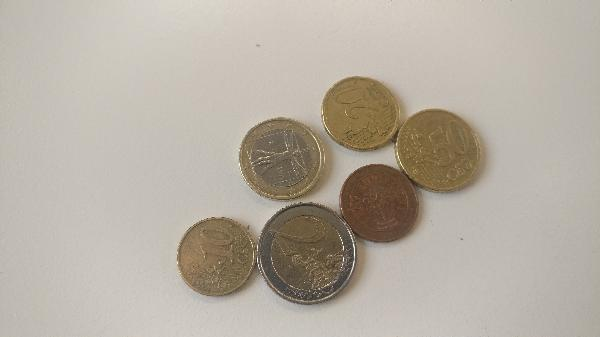Fifty Cent: (399, 108, 480, 193)
Five Cent: (338, 163, 420, 246)
One Euro: (237, 117, 322, 199)
Ten Cent: (172, 216, 259, 299)
Twenty Cent: (321, 75, 399, 147)
Two Euro: (260, 201, 360, 301)
